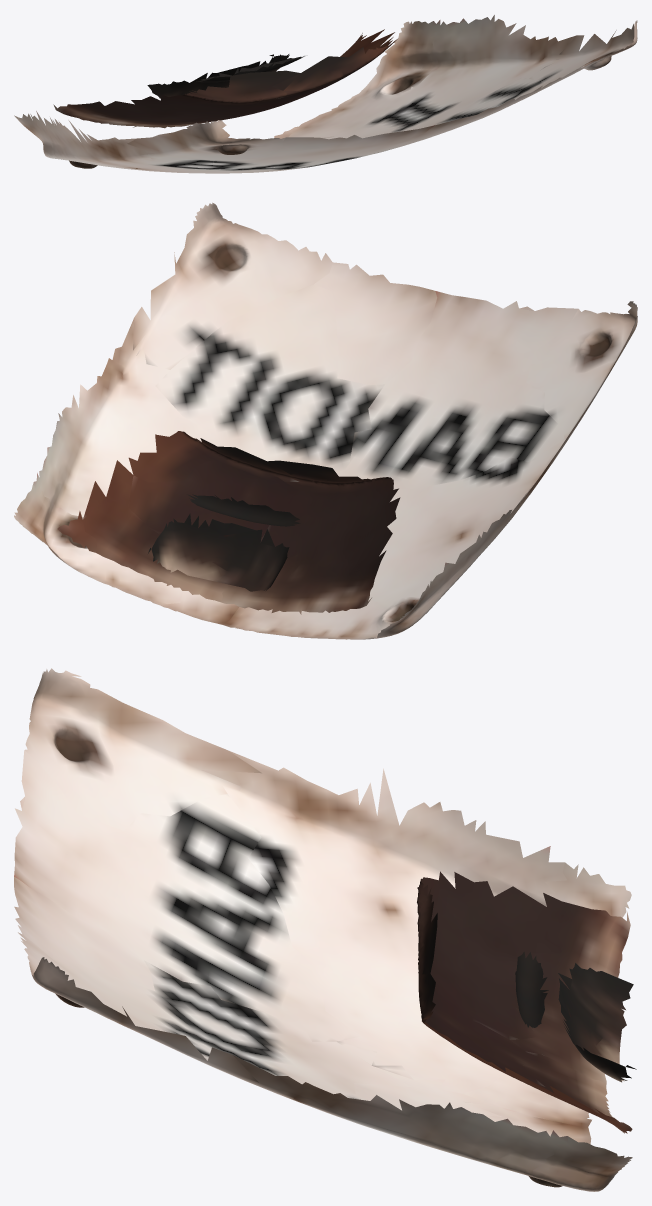
File: bandit_chest_plate.obj
3 views of the same model, one above another, from view 1: azimuth 30°, elevation 25°; view 2: azimuth 150°, elevation 25°; view 3: azimuth 270°, elevation 25° (orthographic). The views are drawn at different scales.
Parts seen in each view (by area): view 1: BANDIT_CHEST_PLATE; view 2: BANDIT_CHEST_PLATE; view 3: BANDIT_CHEST_PLATE.
Part boxes in pixels (x1,y1,x2,y2): BANDIT_CHEST_PLATE: (14, 15, 637, 173); BANDIT_CHEST_PLATE: (14, 202, 637, 639); BANDIT_CHEST_PLATE: (14, 668, 636, 1191).
Bounding box in the file's own units: 0.1508 × 0.0723 × 0.13.
1 material, 1 textured.
